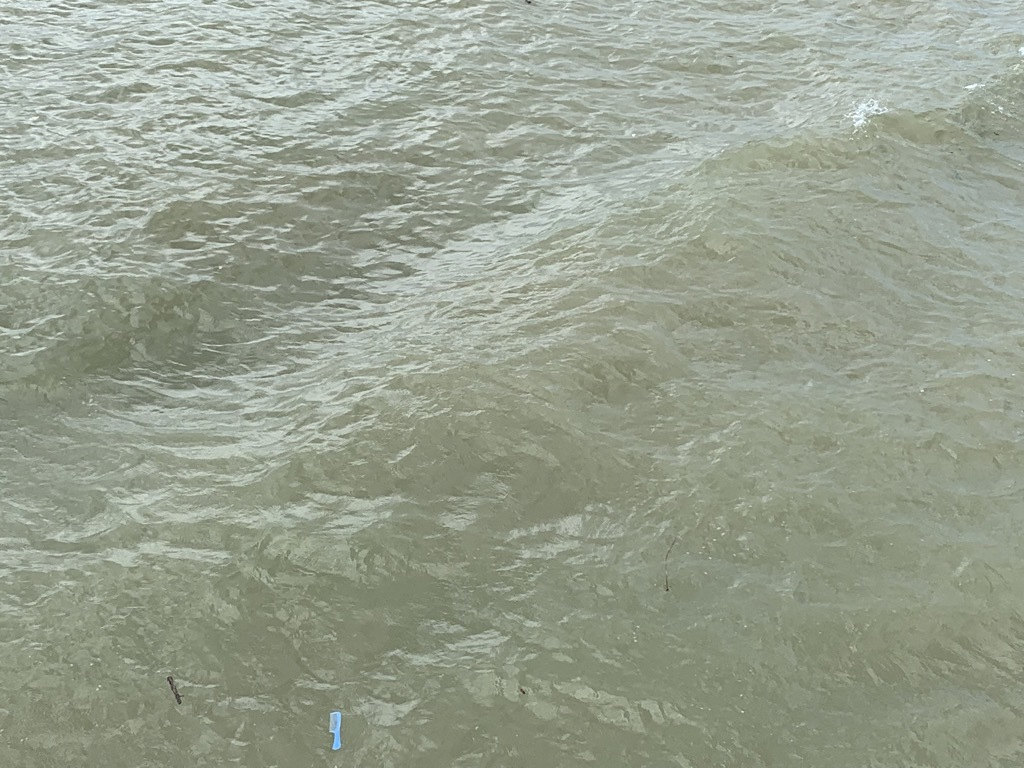organic: (653, 530, 686, 601), (156, 667, 194, 711), (511, 678, 533, 701), (519, 1, 535, 10)
plastic: (309, 697, 358, 762)
